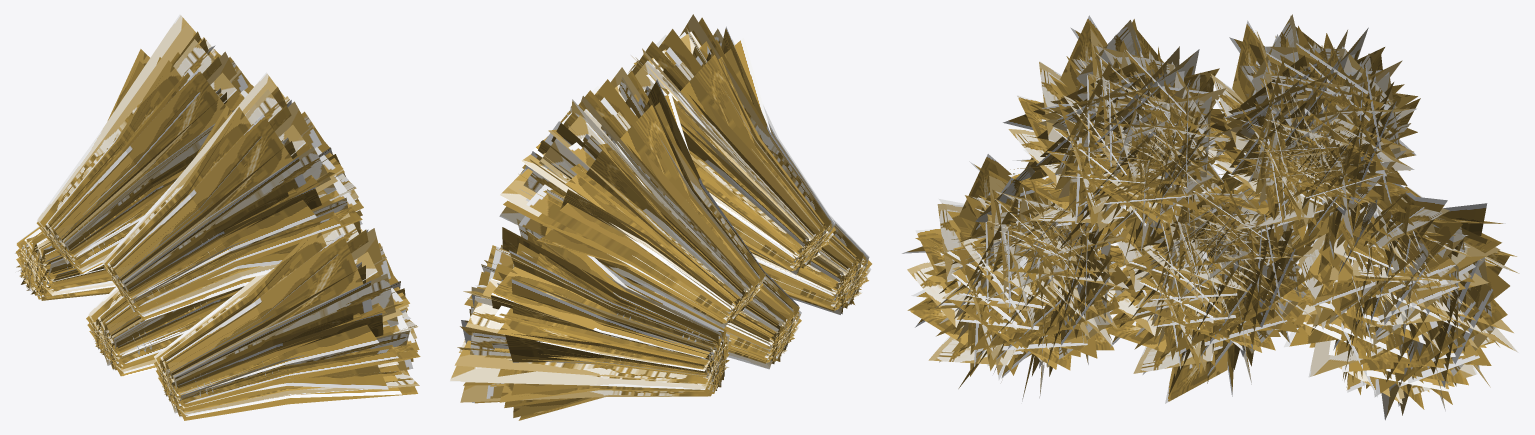
The model's file is MS_WindmillWheat5.fbx.
3 renders of one model, left to right at view 1: azimuth 30°, elevation 25°; view 2: azimuth 150°, elevation 25°; view 3: azimuth 270°, elevation 25°, orthographic. The views are drawn at different scales.
Visible parts, largest first — view 1: Plane.006; view 2: Plane.006; view 3: Plane.006.
Boxes of the visible parts, bbox=[...] form: Plane.006: bbox=[15, 14, 420, 420]; Plane.006: bbox=[449, 14, 871, 420]; Plane.006: bbox=[902, 14, 1519, 420].
Size of the model in its own units: 821 by 953 by 1499.
